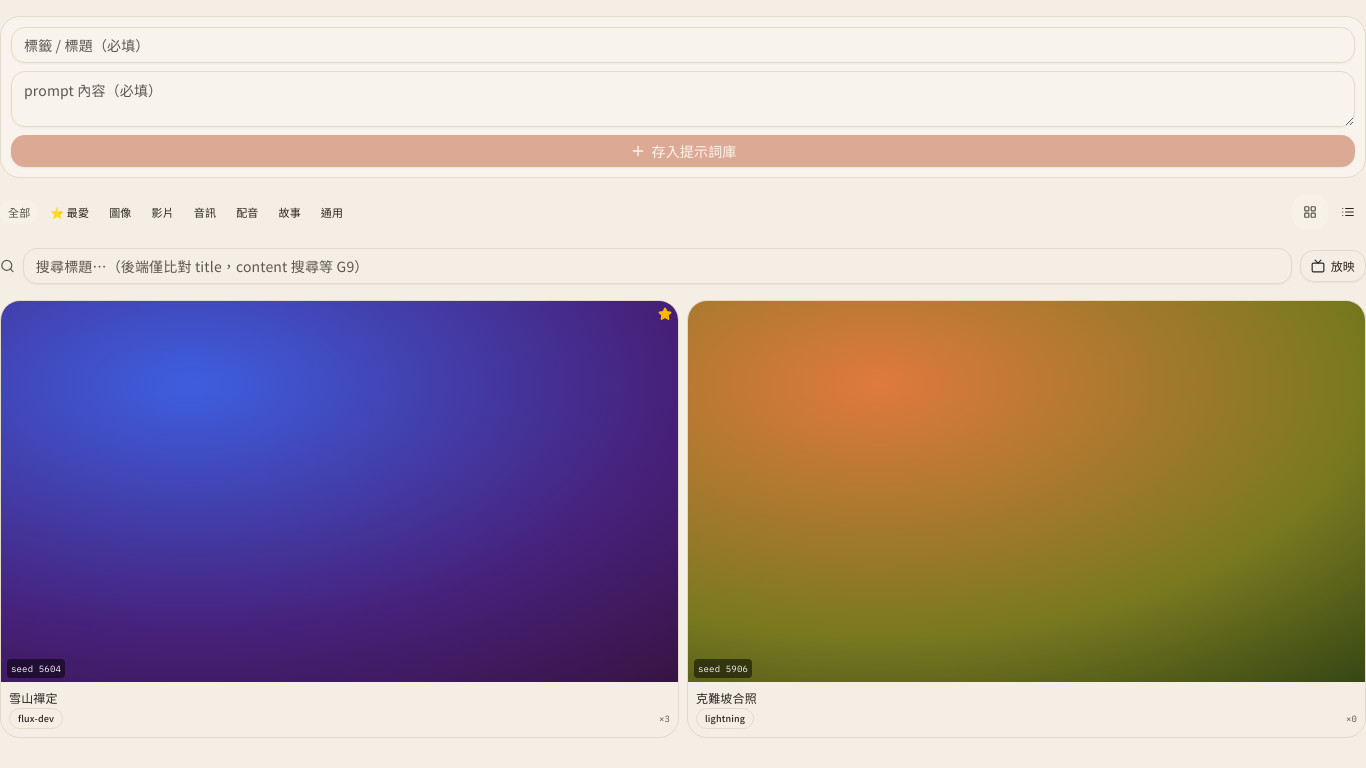
Test case: FlowTv 放映皮（W1-4） › Hide Prompt 收合疊層；左右鍵換頁會循環
Click the button with test id "flowtv-card-1". click: (340, 519)
box: [0,300,679,738]
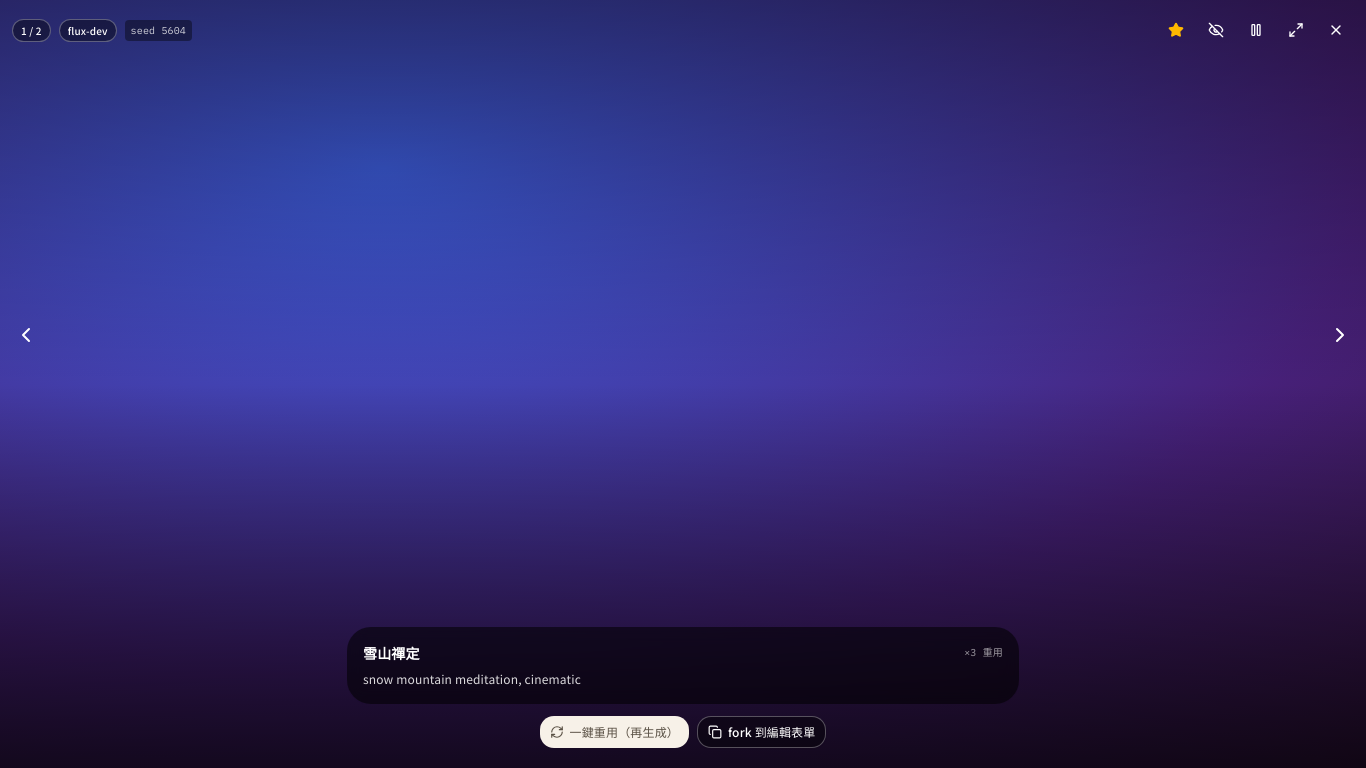
Click the button named "隱藏 prompt". click: (1216, 30)
box: [1198,12,1234,48]
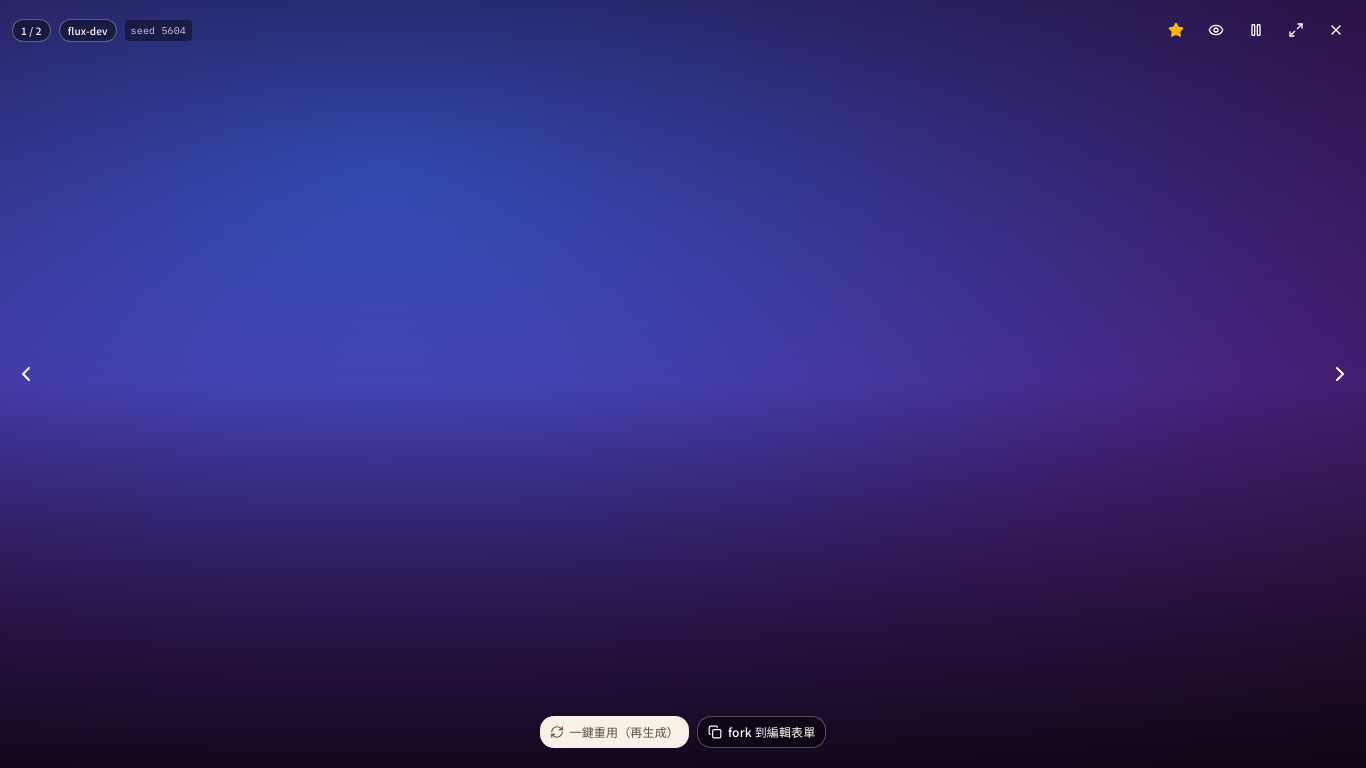
Expected: the element with test id "flowtv-prompt-overlay" is gone
Click the button named "顯示 prompt". click: (1216, 30)
box: [1198,12,1234,48]
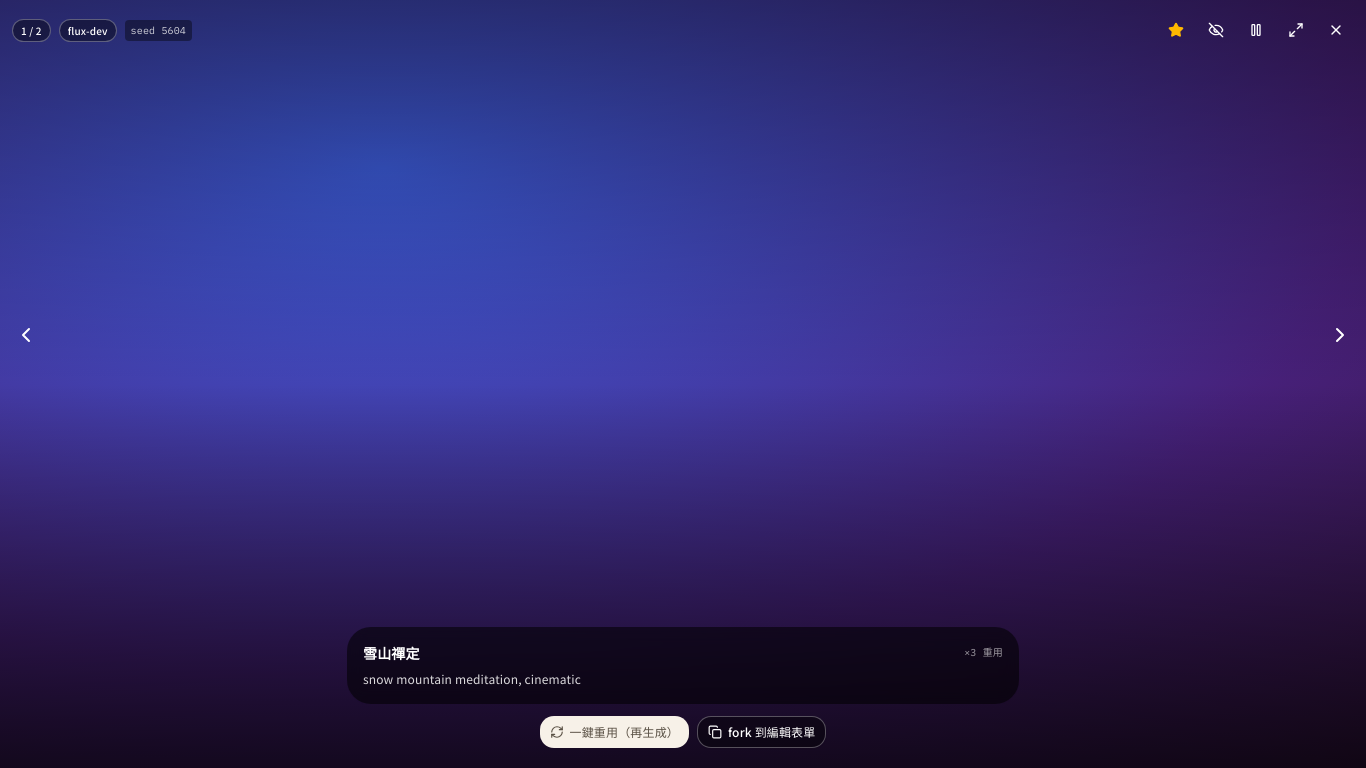
Expected: the element with test id "flowtv-prompt-overlay" is shown, [347,626,1019,704]
// 換頁循環：1 → 2 →（wrap）→ 1
Click the button named "下一個". click: (1340, 335)
box: [1322,317,1358,353]
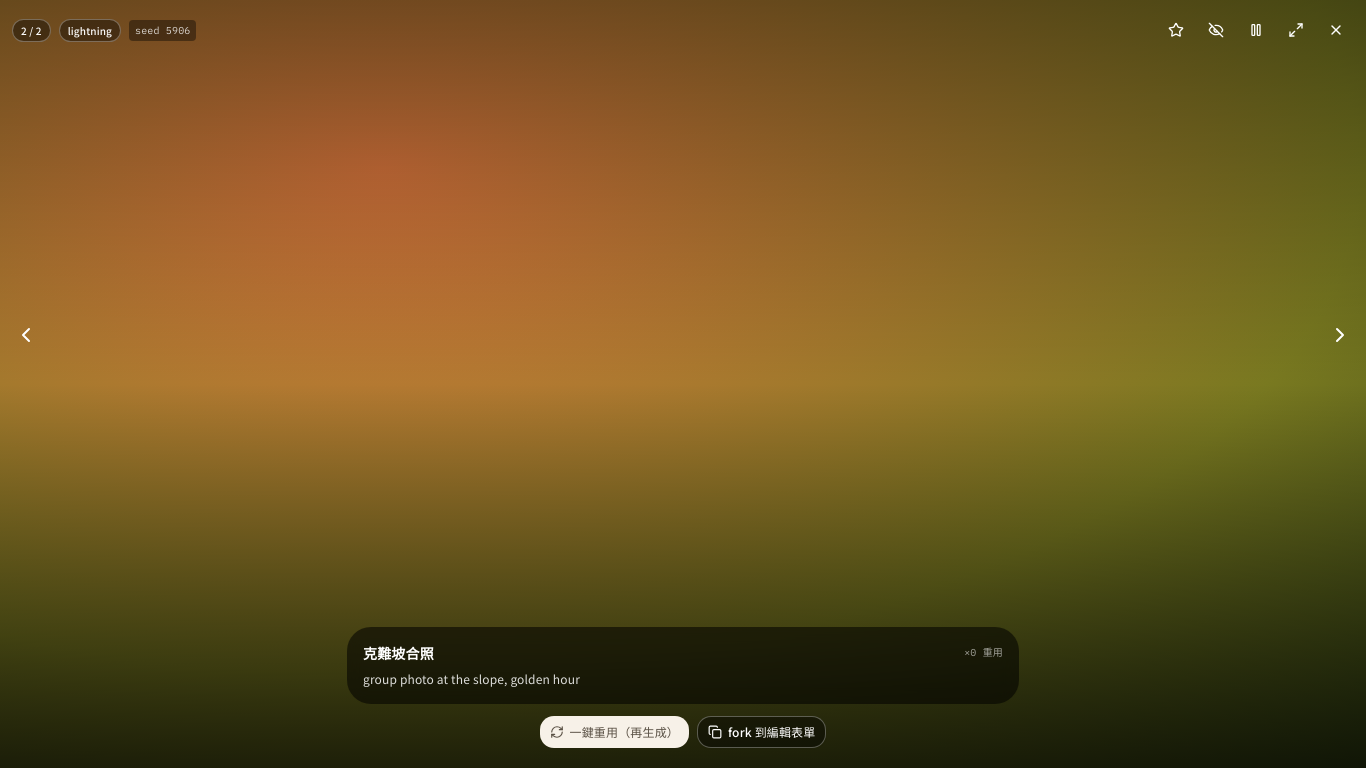
Expected: the dialog with test id "flowtv-player" shows "克難坡合照", [363,642,434,662]
Click the button named "下一個". click: (1340, 335)
box: [1322,317,1358,353]
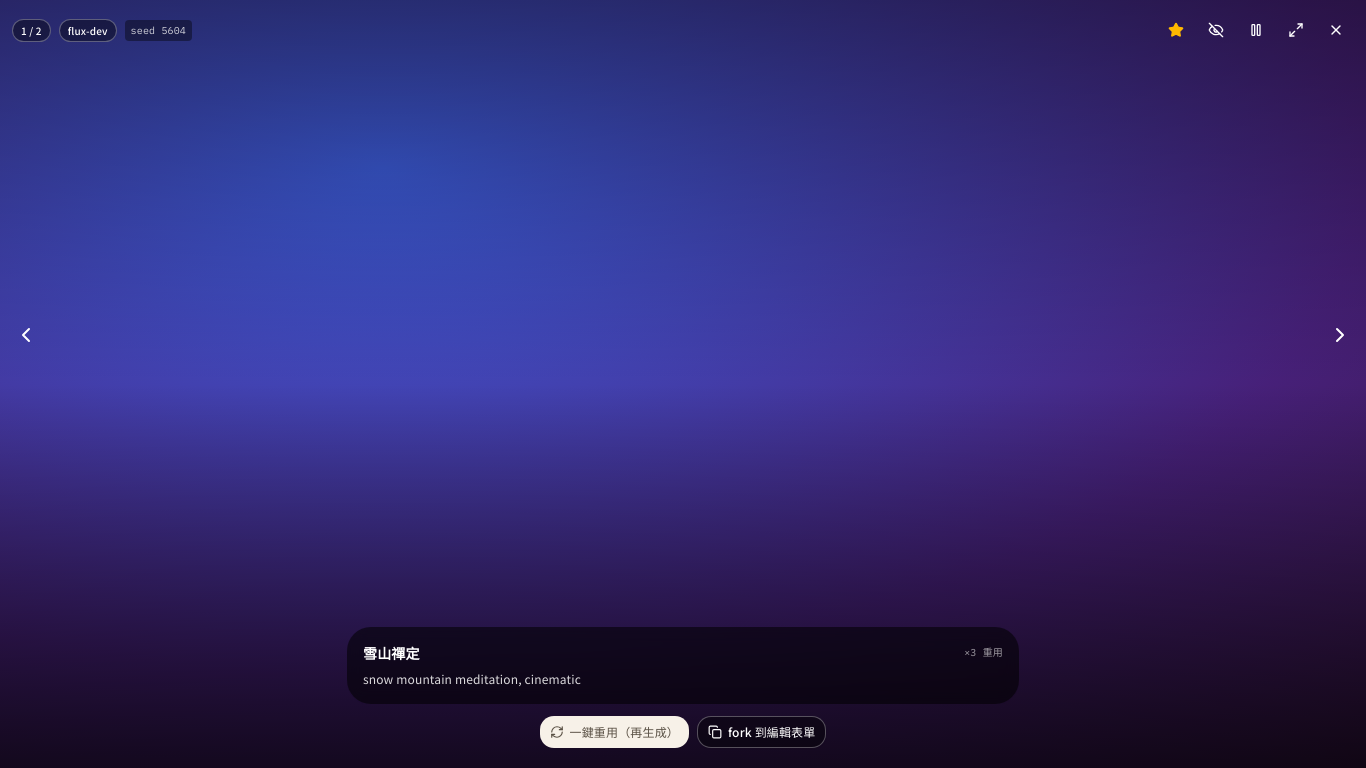
Expected: the dialog with test id "flowtv-player" shows "雪山禪定", [363,642,420,662]
Click the button named "上一個". click: (26, 335)
box: [8,317,44,353]
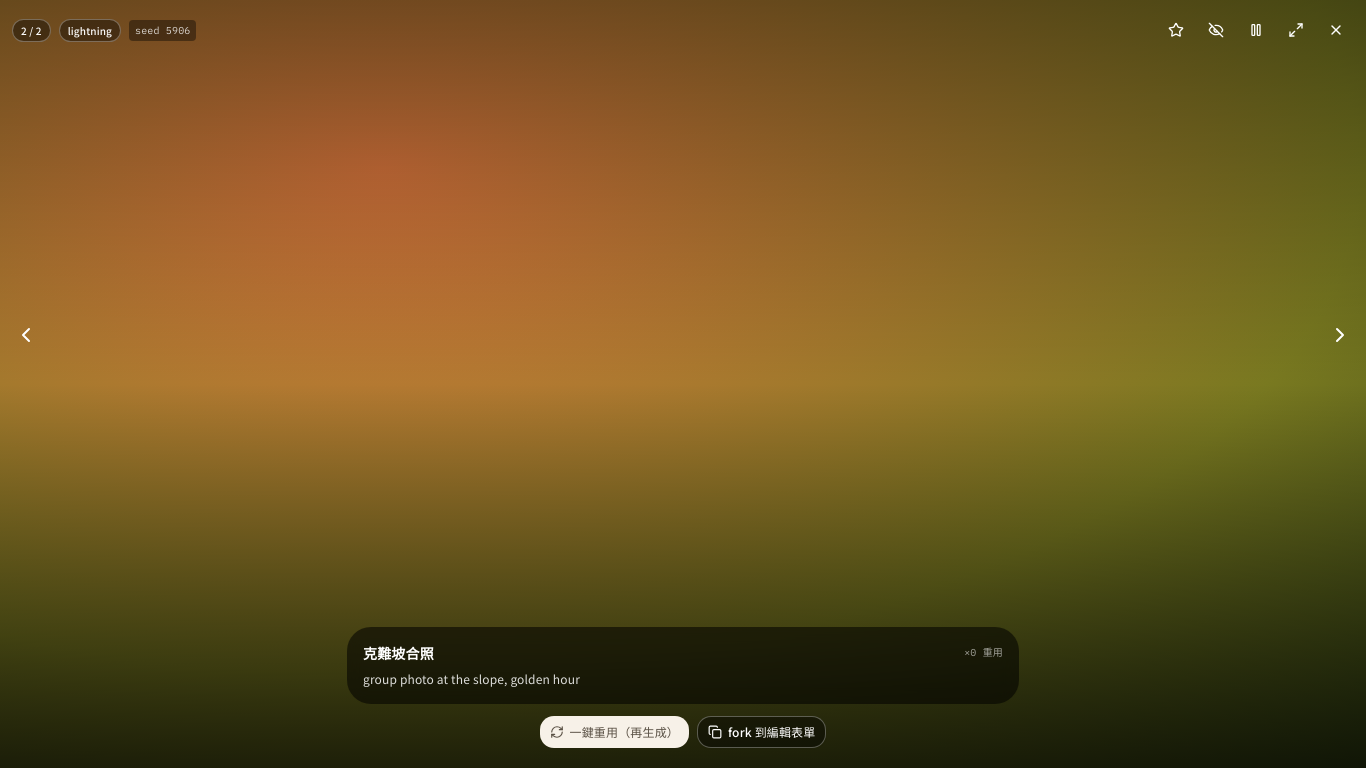
Expected: the dialog with test id "flowtv-player" shows "克難坡合照", [363,642,434,662]
